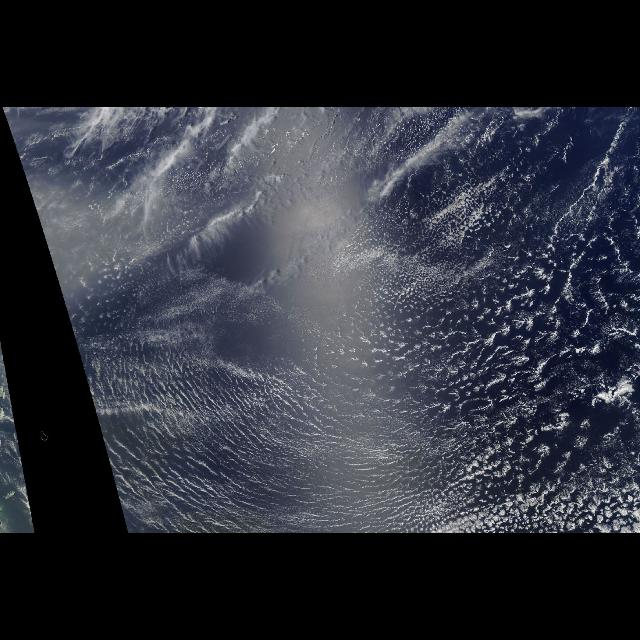Sugar: (8, 111, 634, 528), (8, 378, 36, 528)
